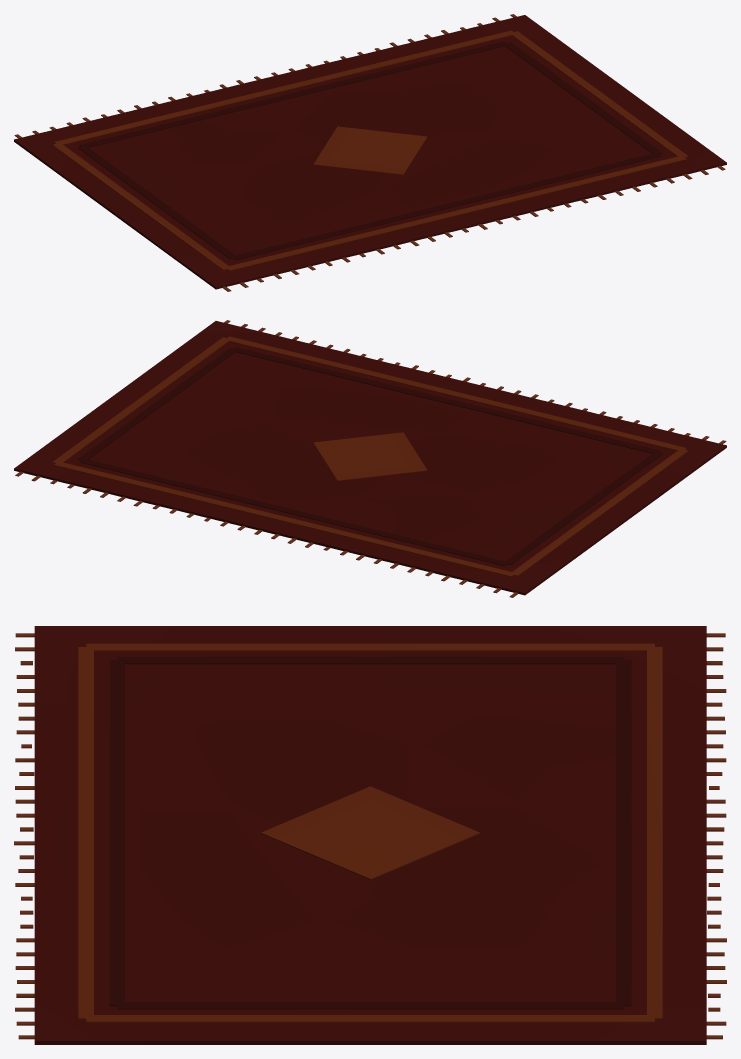
The model's file is alfombra.glb.
3 views of the same model, one above another, from view 1: azimuth 30°, elevation 25°; view 2: azimuth 150°, elevation 25°; view 3: azimuth 270°, elevation 25° (orthographic). The views are drawn at different scales.
Parts seen in each view (by area): view 1: alfombra.001; view 2: alfombra.001; view 3: alfombra.001.
Boxes of the visible parts, x1,y1,x2,y2 form: alfombra.001: (14, 14, 726, 291); alfombra.001: (14, 320, 726, 597); alfombra.001: (14, 626, 726, 1044).
Bounding box in the file's own units: 1.9 × 0.01 × 1.38.
